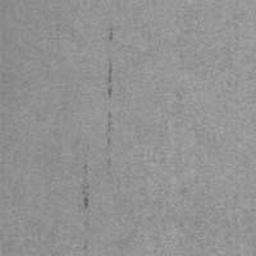Inclusion: (107, 112, 112, 135), (83, 196, 89, 209), (108, 66, 112, 82), (109, 28, 113, 41)
